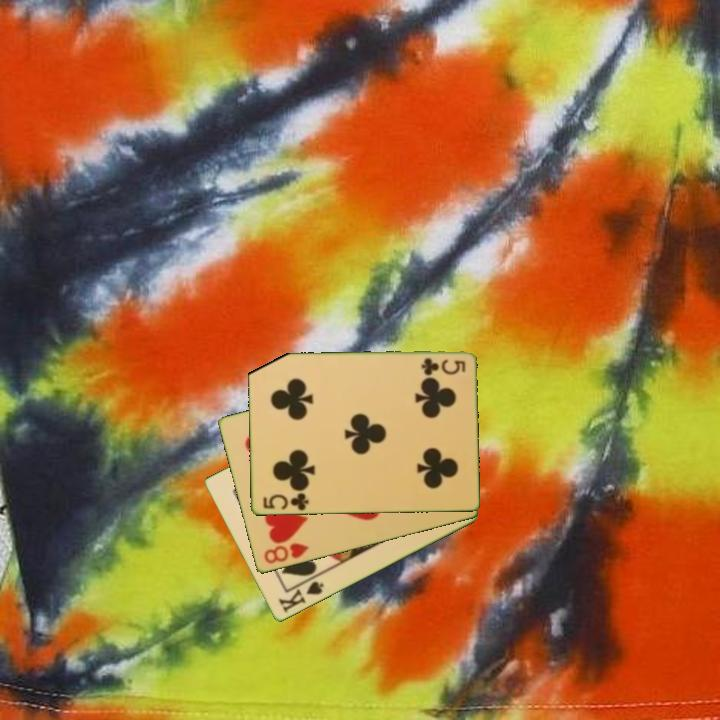5c: (260, 489, 311, 513), (418, 354, 468, 377)
8h: (260, 539, 312, 567)
Ks: (275, 573, 327, 616)
